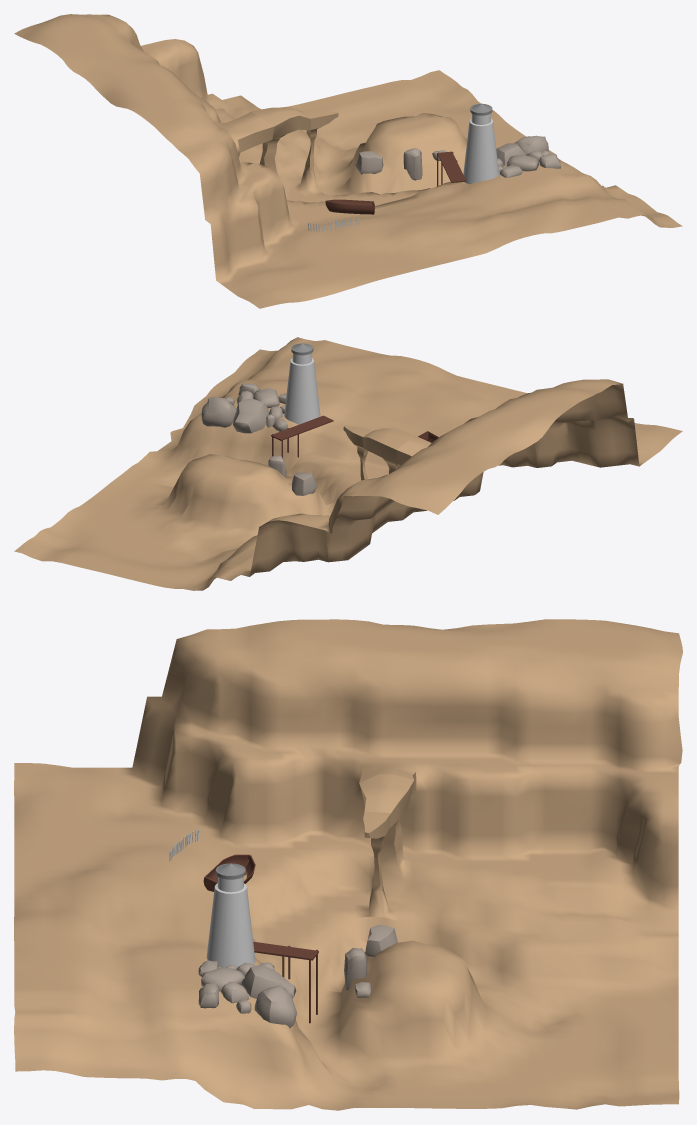
The model's file is SeagullStage_v4.fbx.
3 renders of one model, top to bottom at view 1: azimuth 30°, elevation 25°; view 2: azimuth 150°, elevation 25°; view 3: azimuth 270°, elevation 25°, orthographic. The views are drawn at different scales.
Visible parts, largest first — view 1: SeagullGround_v2:Island, pCylinder1, Boat2, pCube7, pCube9, pCube1, pCube3; view 2: SeagullGround_v2:Island, pCylinder1, pCube2, pCube3, pCube1, pCube7; view 3: SeagullGround_v2:Island, pCylinder1, pCube3, pCube2, pCube7, pCube9.
Part boxes in pixels (x1,y1,x2,y2): SeagullGround_v2:Island: [14, 14, 682, 308]; pCylinder1: [463, 103, 498, 184]; Boat2: [325, 199, 374, 214]; pCube7: [355, 151, 383, 174]; pCube9: [403, 148, 422, 180]; pCube1: [437, 151, 466, 182]; pCube3: [515, 135, 548, 154]; SeagullGround_v2:Island: [14, 337, 682, 590]; pCylinder1: [284, 343, 320, 424]; pCube2: [233, 398, 268, 433]; pCube3: [201, 397, 236, 427]; pCube1: [271, 415, 333, 440]; pCube7: [292, 472, 317, 495]; SeagullGround_v2:Island: [14, 619, 682, 1110]; pCylinder1: [206, 863, 255, 967]; pCube3: [254, 985, 296, 1028]; pCube2: [241, 965, 296, 998]; pCube7: [365, 925, 397, 956]; pCube9: [344, 948, 366, 990].
Size of the model in its own units: 116 by 41.09 by 115.
